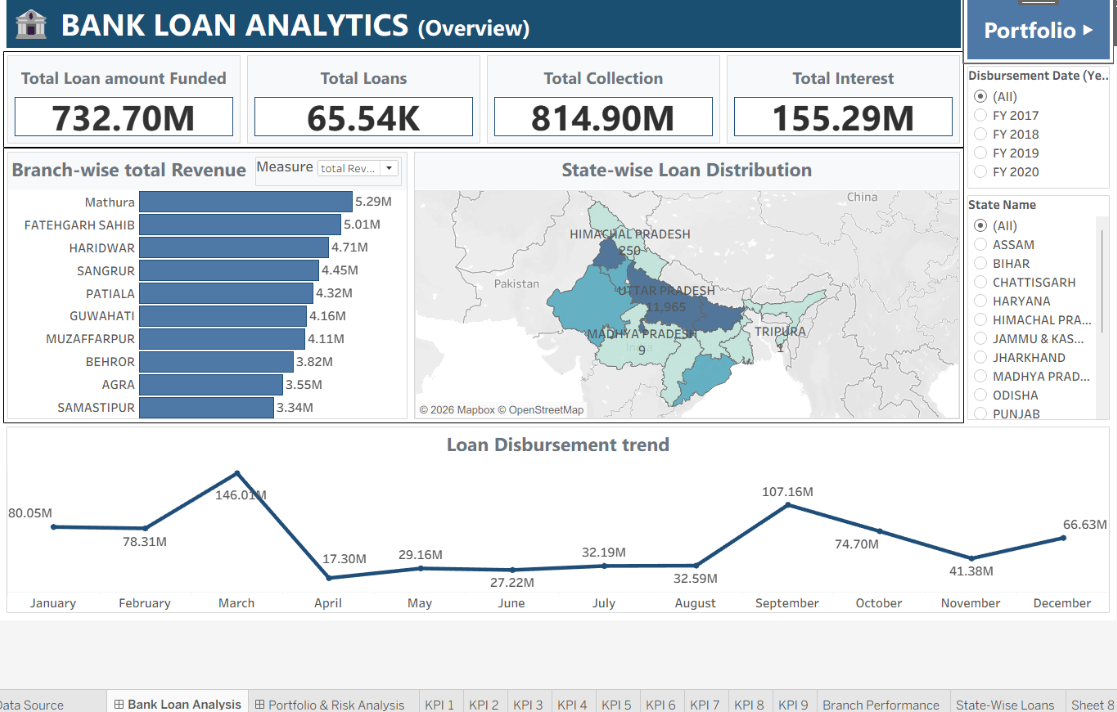

The page's visual inventory and layout, read from the dashboard file:
{"tool":"tableau","page":{"name":"Bank Loan Analysis","canvas":[1366,768],"ordinal":0},"visuals":[{"type":"text","box":[5,5,1174,67.1]},{"type":"dashboard-object","box":[1179,5,182,81]},{"type":"worksheet","title":"KPI 1","mark":"Automatic","box":[6,73.1,293,115.8]},{"type":"worksheet","title":"KPI 2","mark":"Automatic","box":[299,73.1,293,115.8]},{"type":"worksheet","title":"KPI 3","mark":"Automatic","box":[592,73.1,293,115.8]},{"type":"worksheet","title":"KPI 4","mark":"Automatic","box":[885,73.1,293,115.8]},{"type":"filter","title":"Disbursement Trend","param":"[federated.09y1vra0zha2pl1blh3vb0k0p8sw].[none:Disbursement Date (Years):nk]","box":[1179,86,182,158]},{"type":"worksheet","title":"Branch Performance","mark":"Automatic","rows":["Branch Name"],"cols":["Calculation_0732575969062914"],"box":[6,190.9,497,335.1]},{"type":"worksheet","title":"State-Wise Loans","mark":"Multipolygon","box":[503,190.9,675,335.1]},{"type":"parameter","param":"[Parameters].[Parameter 0732575967178753]","box":[308,196,189,46]},{"type":"filter","title":"State-Wise Loans","param":"[federated.09y1vra0zha2pl1blh3vb0k0p8sw].[none:State Name:nk]","box":[1179,244,182,283]},{"type":"worksheet","title":"Disbursement Trend","mark":"Automatic","rows":["Funded Amount"],"cols":["Disbursement Date"],"box":[5,527,1356,236]}]}

Visuals, with their boxes on the page's 1366x768 design canvas (x1, y1, x2, y2). These are canvas units, not pixel positions in the 1117x712 screenshot, which may show the page scaled, cropped or inside an application window:
text: 5/5/1179/72
dashboard-object: 1179/5/1361/86
"KPI 1" worksheet: 6/73/299/189
"KPI 2" worksheet: 299/73/592/189
"KPI 3" worksheet: 592/73/885/189
"KPI 4" worksheet: 885/73/1178/189
"Disbursement Trend" filter: 1179/86/1361/244
"Branch Performance" worksheet: 6/191/503/526
"State-Wise Loans" worksheet (Multipolygon marks): 503/191/1178/526
parameter: 308/196/497/242
"State-Wise Loans" filter: 1179/244/1361/527
"Disbursement Trend" worksheet: 5/527/1361/763
